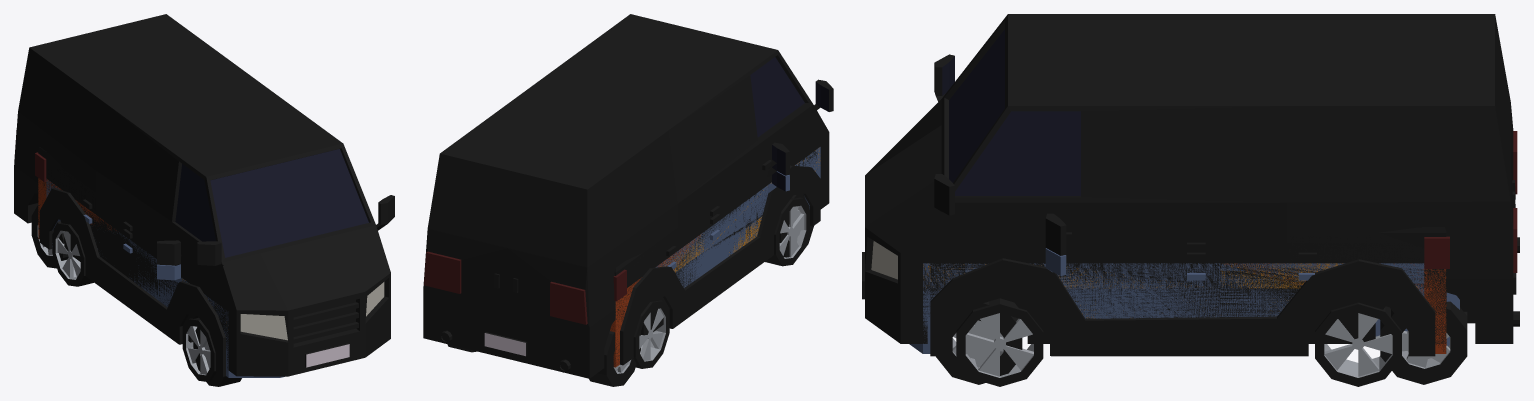
Rendered from parked-cars.glb.
3 views of the same model, side by side, from view 1: azimuth 30°, elevation 25°; view 2: azimuth 150°, elevation 25°; view 3: azimuth 270°, elevation 25° (orthographic). The views are drawn at different scales.
Visible parts, largest first — view 1: van, pickup, suv, sedan, taxi, hatchback; view 2: van, pickup, suv, sedan, taxi, hatchback; view 3: van, suv, sedan, pickup, taxi, hatchback.
Boxes of the visible parts, x1,y1,x2,y2 form: van: (14,14,394,386); pickup: (35,147,225,369); suv: (35,161,225,376); sedan: (46,179,284,381); taxi: (52,223,185,286); hatchback: (38,178,116,238); van: (423,14,833,386); pickup: (613,136,820,356); suv: (612,144,820,366); sedan: (625,147,820,366); taxi: (633,150,820,368); hatchback: (610,235,700,367); van: (862,14,1519,384); suv: (930,230,1449,356); sedan: (909,248,1467,386); pickup: (930,213,1449,347); taxi: (923,263,1417,386); hatchback: (1225,263,1446,353).
Size of the model in its own units: 2.39 by 2.3 by 5.02.
